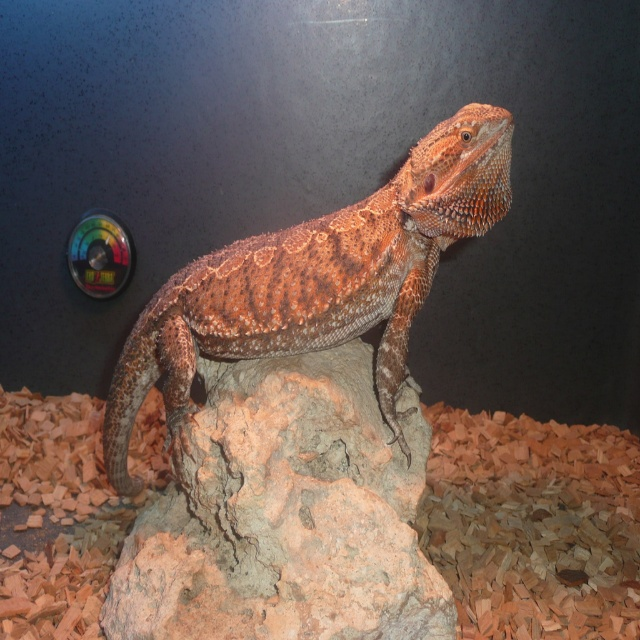Lizard: (103, 102, 514, 496)
